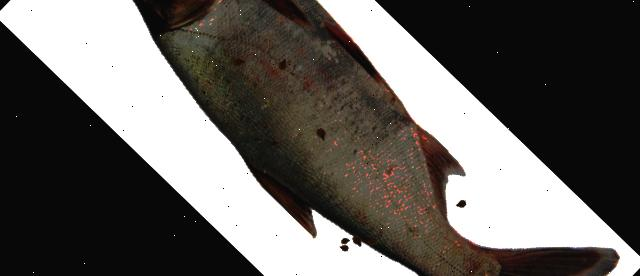Parasitic Disease: (134, 0, 617, 276), (135, 0, 617, 276)
